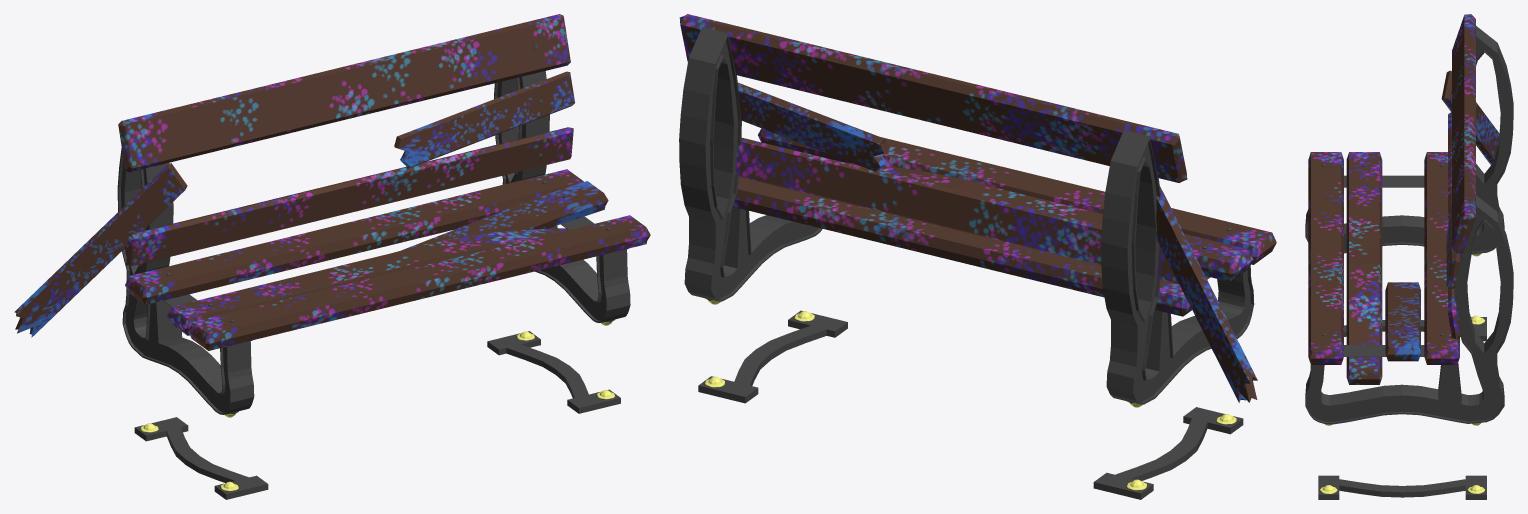
File: banco.fbx
The picture shows the model from 3 angles, left to right: view 1: azimuth 30°, elevation 25°; view 2: azimuth 150°, elevation 25°; view 3: azimuth 270°, elevation 25°; orthographic projection. The views are drawn at different scales.
Visible parts, largest first — view 1: bancopark; view 2: bancopark; view 3: bancopark.
Part boxes in pixels (<box>): bancopark: <box>14,14,650,499</box>; bancopark: <box>679,14,1276,499</box>; bancopark: <box>1305,14,1513,499</box>.
Bounding box in the file's own units: 150 × 87.03 × 55.05.
